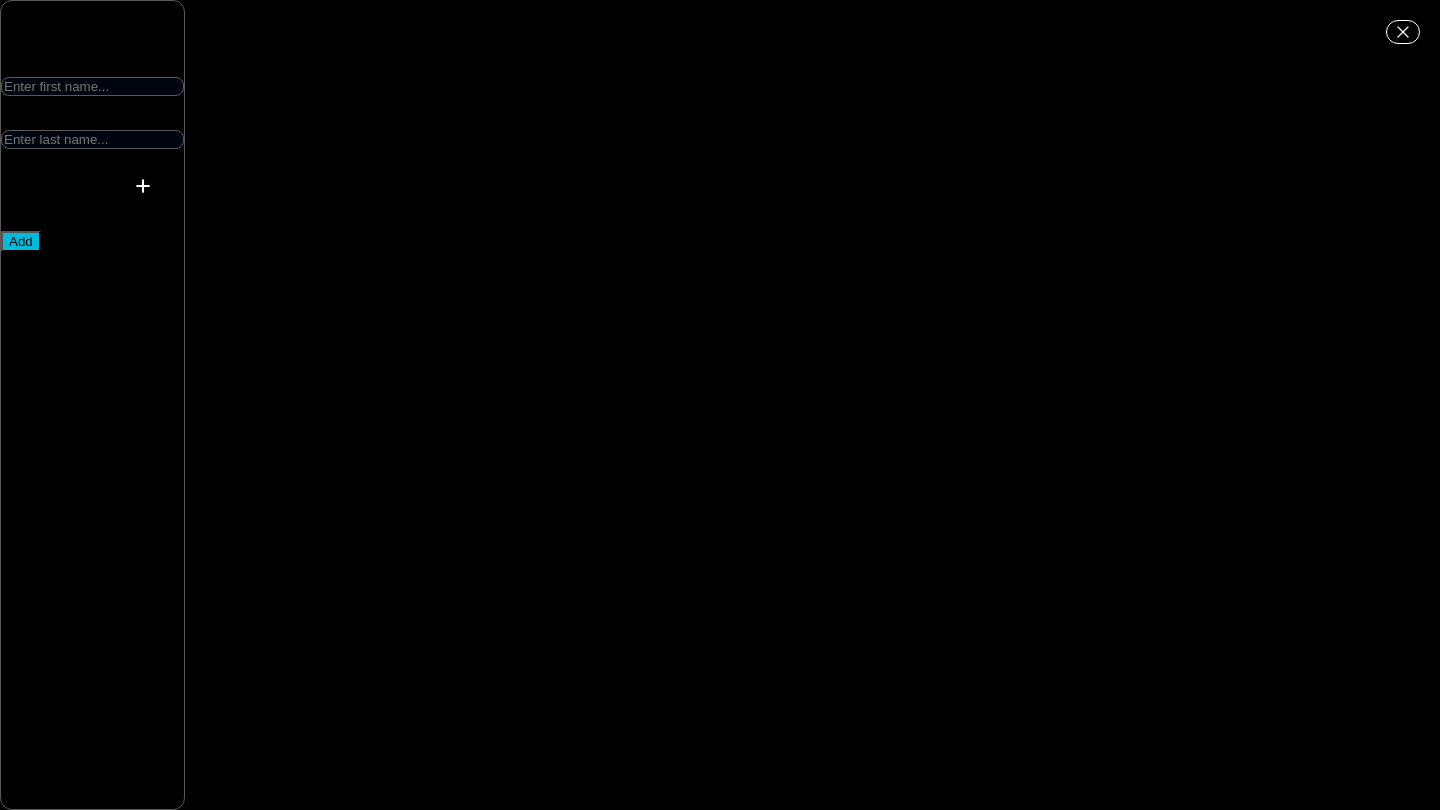
Test case: Add contact and its functionality › empty first name, fill the remain field, should not be submitted
In the field labelled "Last Name": (92, 140) [1, 130, 184, 149], type "Tadrik"
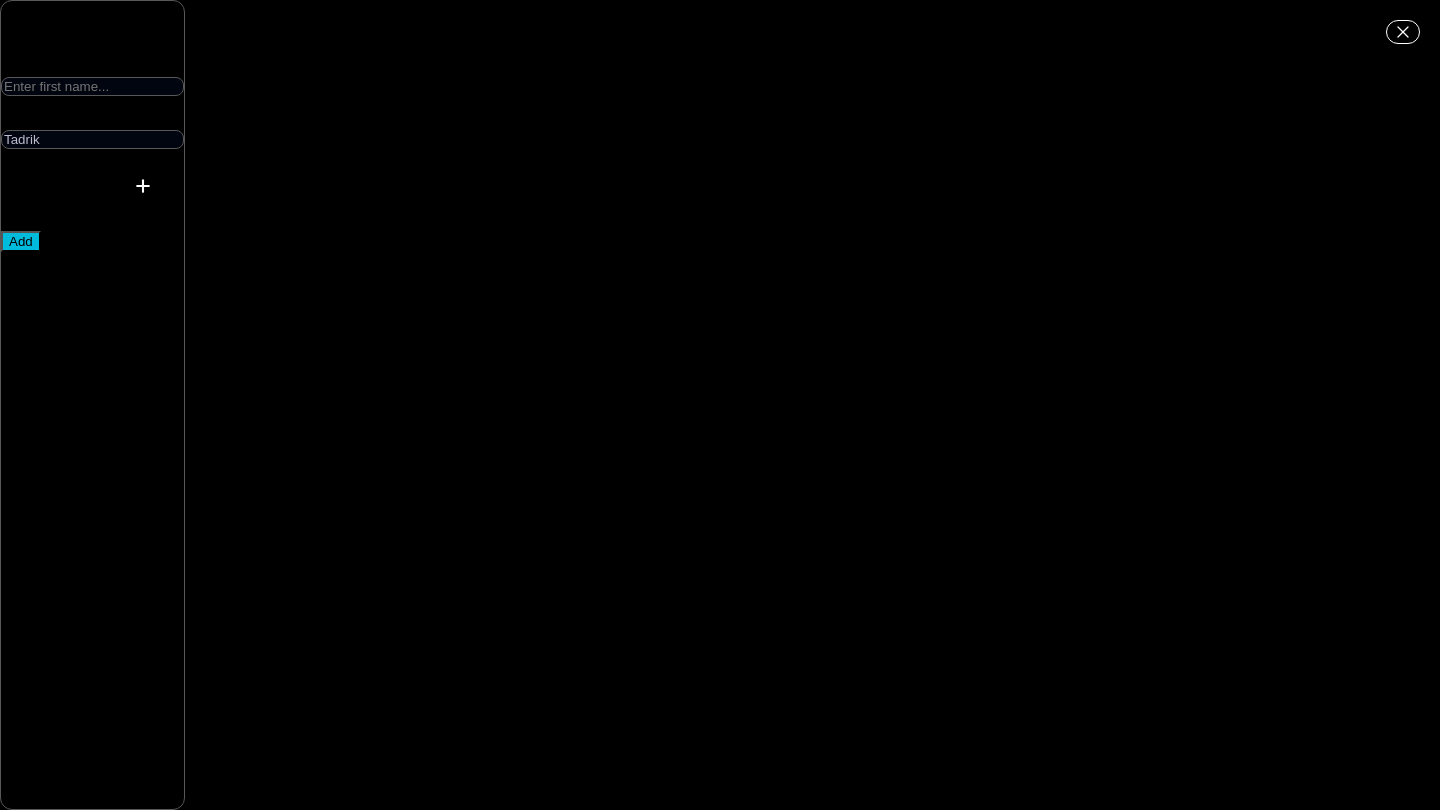
Click the icon with test id "plus": (143, 186) [133, 176, 153, 196]
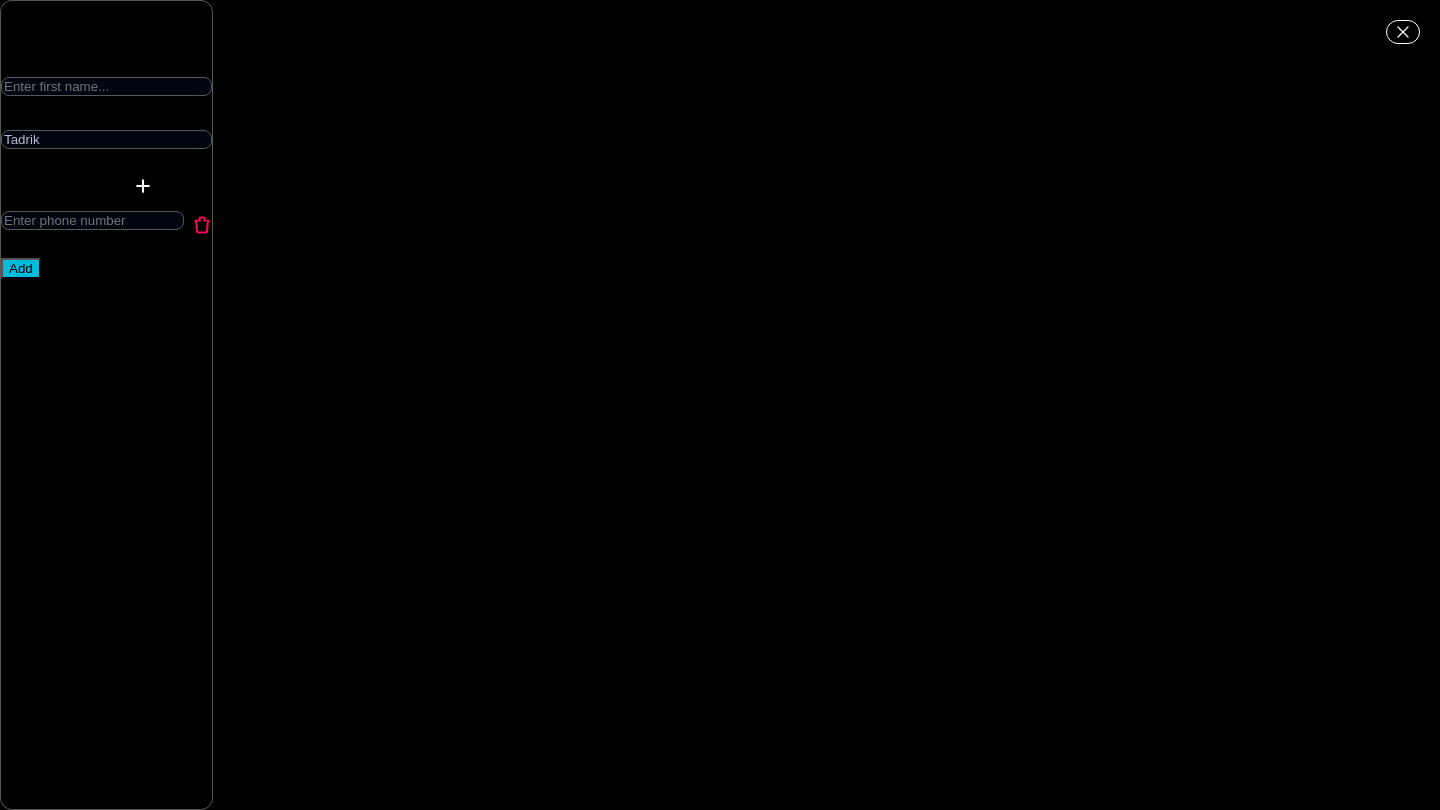
In the field with test id "input-phones.0.number": (92, 220) [1, 211, 184, 230], type "0891922218"
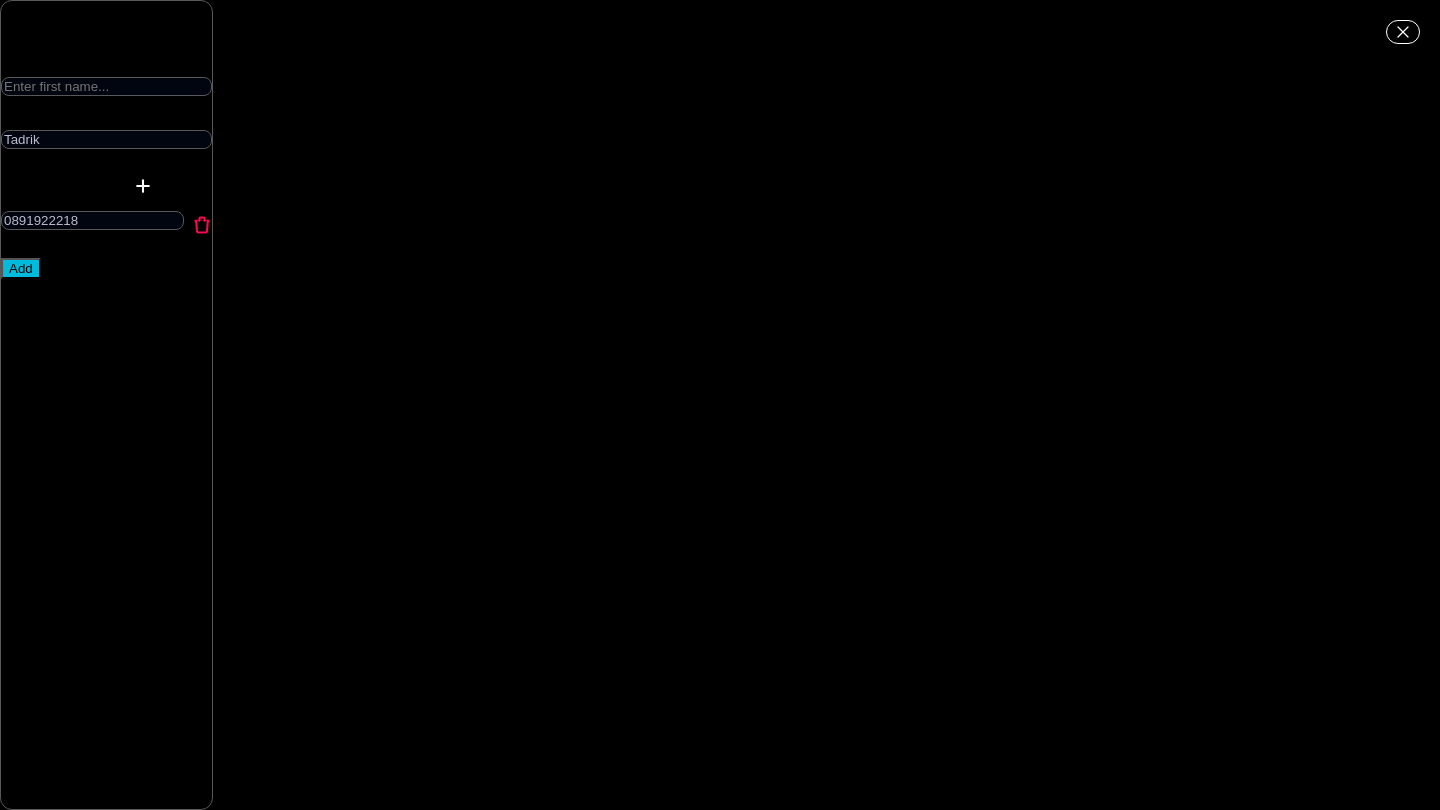
Click the button "Add": (21, 268) [1, 258, 41, 279]
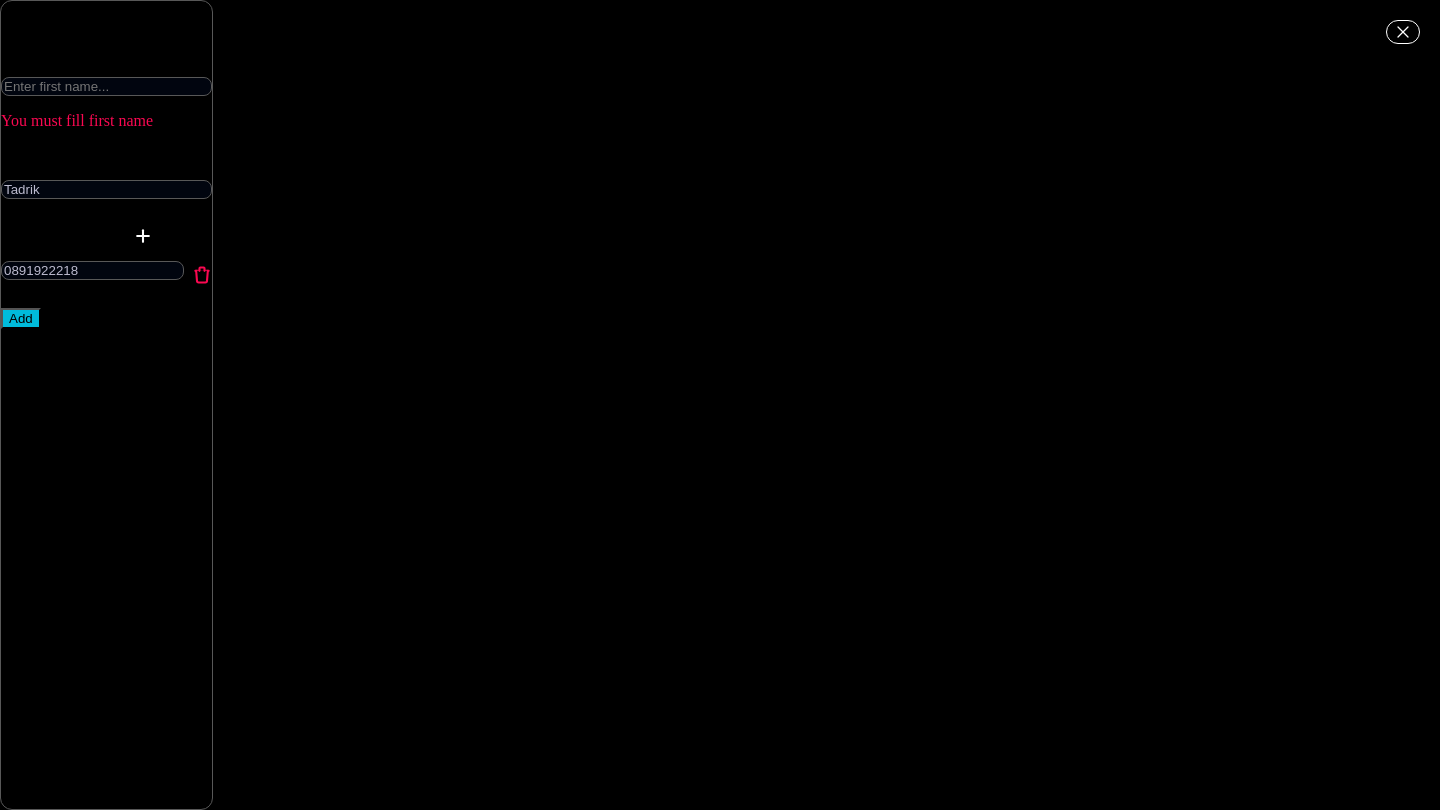
Check: the text "You must fill first name" is shown, box [1, 112, 153, 129]
